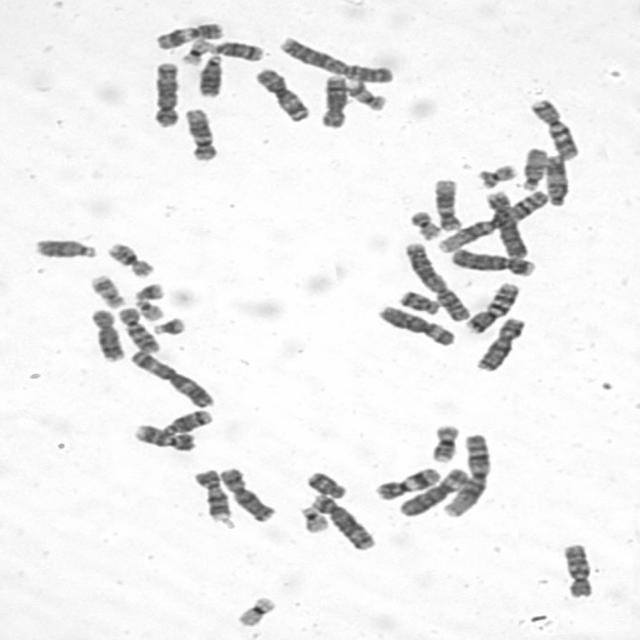A1: (434, 187, 552, 254), (438, 429, 493, 519)
A2: (273, 31, 397, 84), (398, 238, 472, 323)
A3: (123, 344, 216, 409), (249, 63, 312, 123)
B4: (480, 186, 530, 260), (446, 244, 538, 277)
B5: (306, 489, 378, 552), (146, 58, 181, 128)
C10: (112, 303, 162, 354), (556, 538, 596, 599)
C11: (369, 462, 442, 502), (150, 18, 225, 51)
C12: (178, 104, 218, 162), (429, 174, 464, 232)
C6: (394, 464, 471, 518), (373, 301, 458, 347)
C7: (525, 94, 582, 160), (461, 278, 522, 334)
C8: (84, 304, 126, 362), (316, 70, 349, 128)
C9: (188, 465, 233, 524), (128, 419, 197, 453)
D13: (30, 234, 98, 260), (192, 49, 225, 98)
D14: (156, 405, 214, 437), (202, 36, 266, 62)
D15: (540, 151, 570, 207), (516, 144, 549, 192)
E16: (102, 238, 155, 279), (425, 420, 461, 463)
E17: (341, 76, 388, 112), (84, 270, 127, 309)
E18: (300, 466, 348, 499), (394, 286, 442, 316)
F19: (230, 592, 278, 628), (175, 34, 212, 66)
F20: (472, 160, 520, 188), (405, 206, 443, 241)
G21: (147, 313, 187, 337), (129, 279, 166, 301)
G22: (294, 502, 331, 534), (130, 296, 165, 322)
X: (214, 463, 277, 523), (470, 314, 527, 372)
